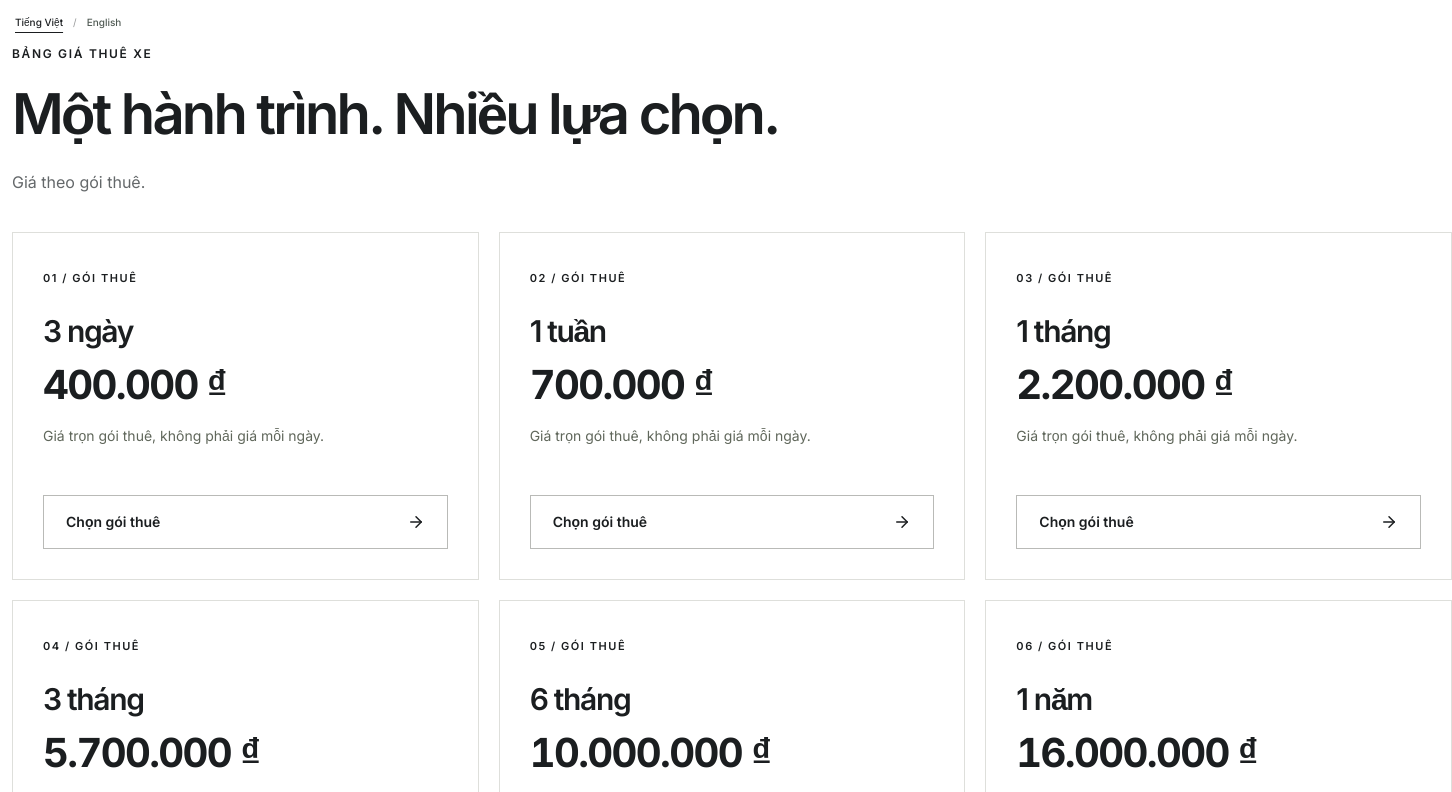
Test: shows six confirmed poster plans and selected enquiry links in both languages
This screenshot has width=1452, height=792.
Check: the text "400.000 ₫" is shown, box left=43, top=360, right=226, bottom=409
Check: the text "16.000.000 ₫" is shown, box left=1016, top=728, right=1257, bottom=777
Click the button "English": [104, 22] box left=84, top=0, right=124, bottom=44
(page scrolled)
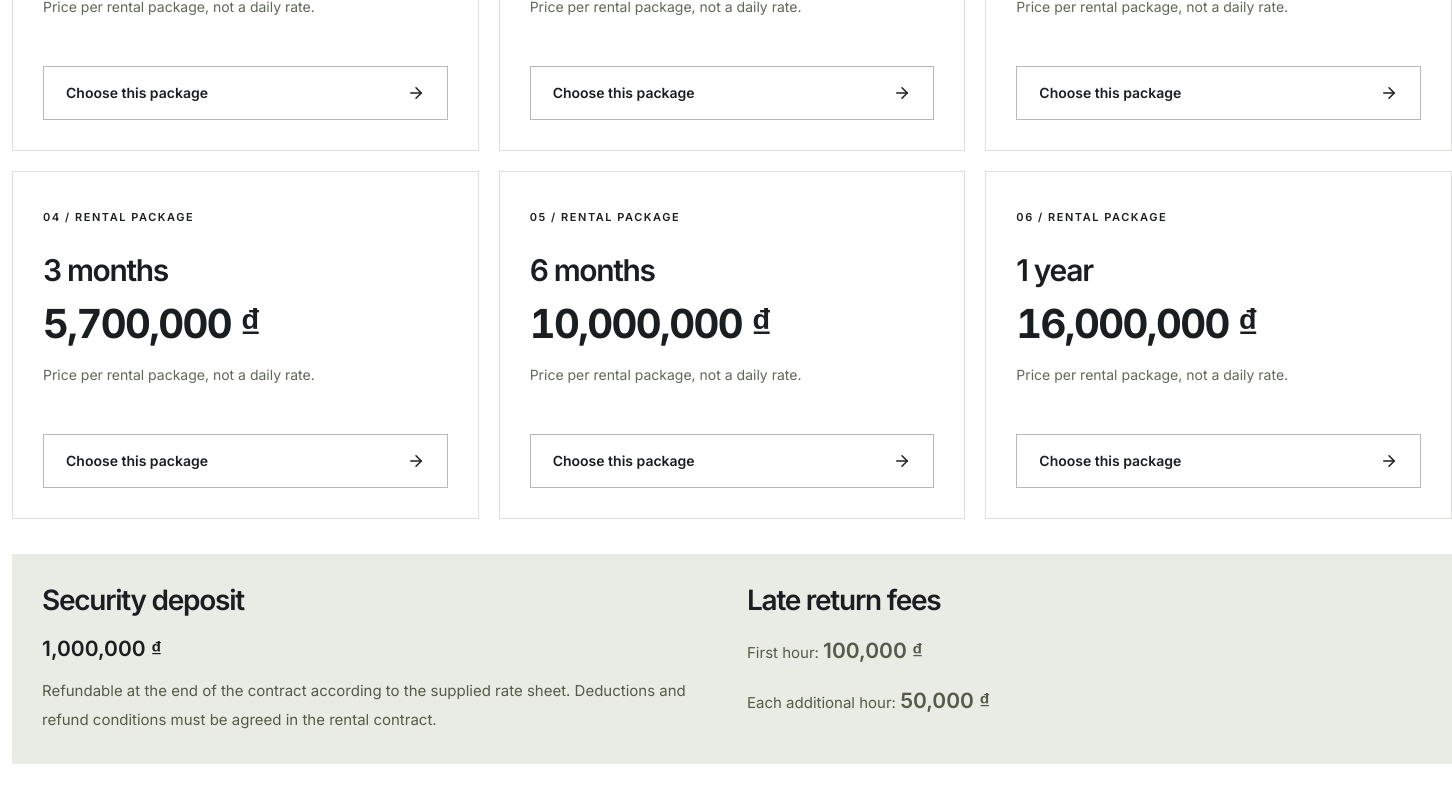
Check: the link with aria-label "Choose 1 month" is shown, box left=1016, top=66, right=1421, bottom=120
Check: the text "100,000 ₫" is shown, box left=823, top=638, right=923, bottom=663
